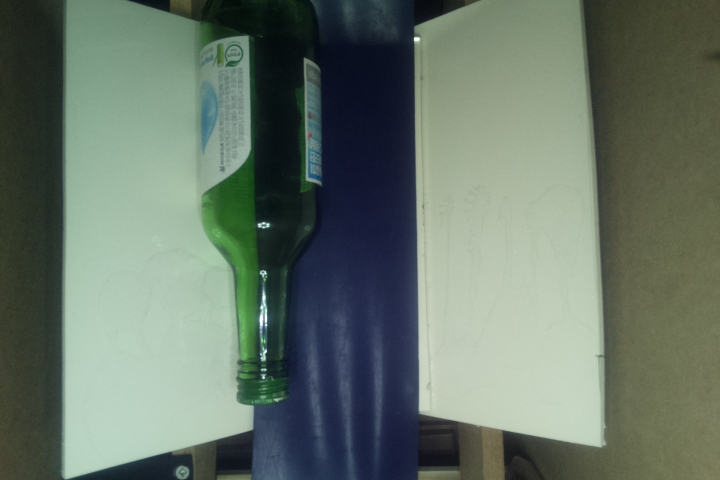soju: (193, 1, 328, 403)
